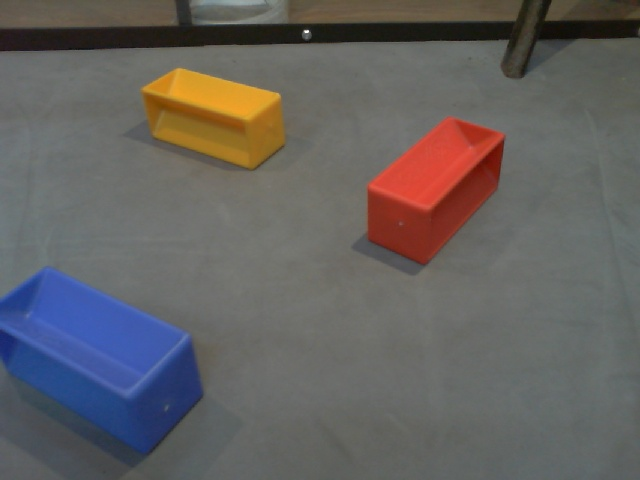BlueSample: (1, 263, 205, 460)
RedSample: (365, 114, 504, 269)
YellowSample: (138, 65, 289, 172)
